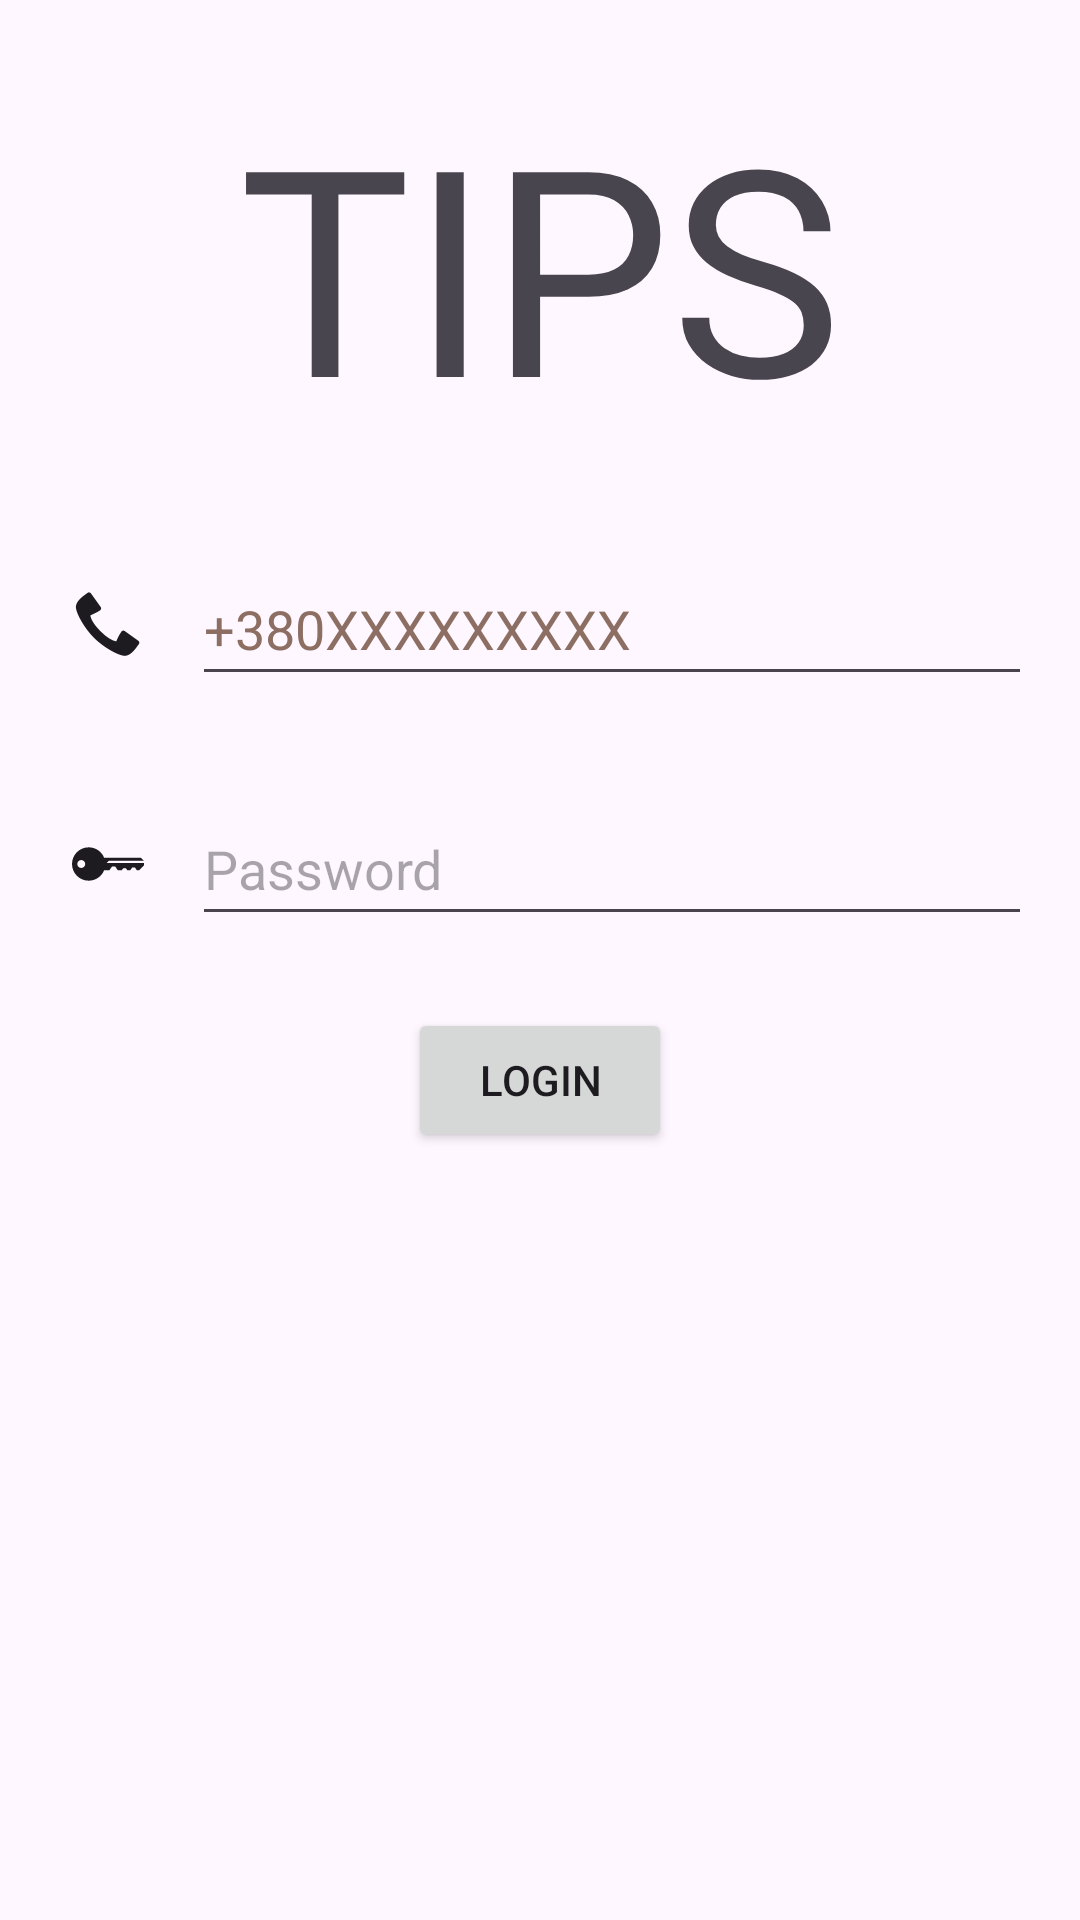

Screen size 1080px x 1920px. Icon name, then its center in pixels as (x=x, y=y):
key icon: (x=108, y=864)
phone icon: (x=108, y=624)
